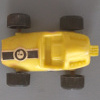carro: (2, 15, 96, 86)
